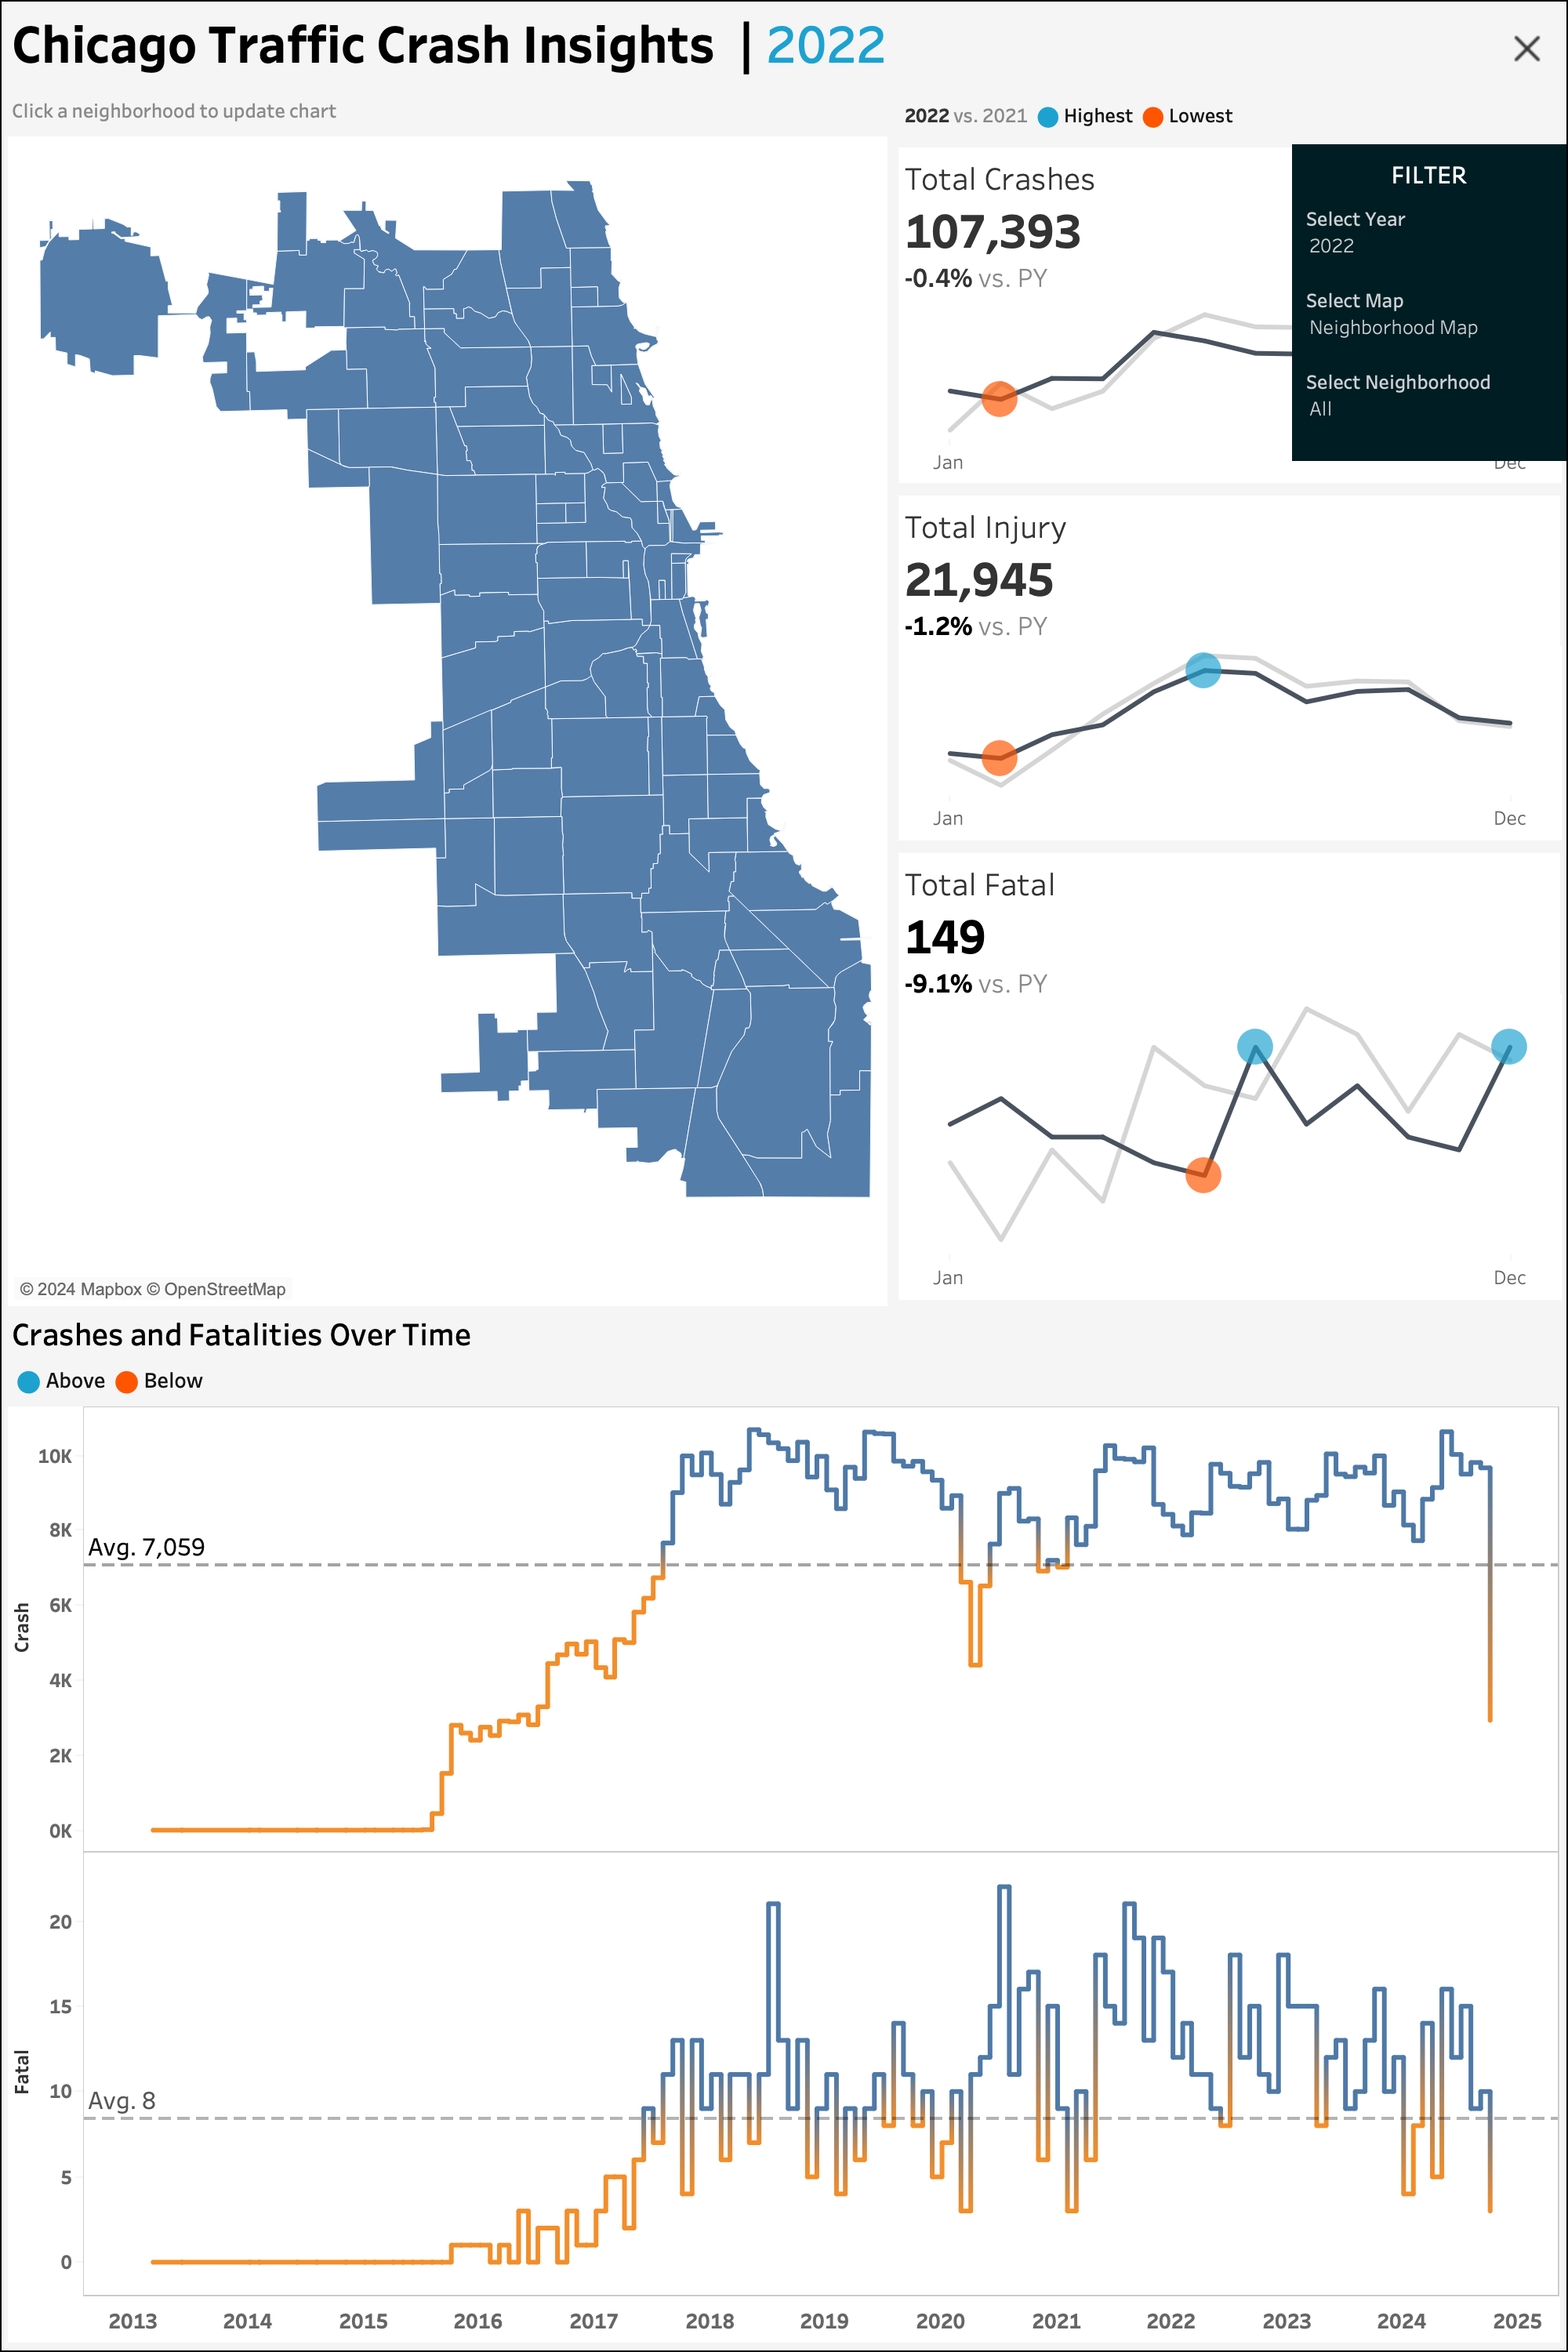

This screenshot's page, from the dashboard's own definition file:
{"tool":"tableau","page":{"name":"Traffic Crash Insights Dashboard","canvas":[1000,1500],"ordinal":0},"visuals":[{"type":"text","box":[1,1,998,53]},{"type":"dashboard-object","box":[962,18,24,26]},{"type":"text","box":[1,58,568,25]},{"type":"worksheet","title":"Legend","mark":"Automatic","box":[569,58,430,32]},{"type":"worksheet","title":"Map","mark":"Multipolygon","box":[1,83,568,749]},{"type":"worksheet","title":"KPI Crash Dynamic","mark":"Automatic","box":[569,90,430,105]},{"type":"text","box":[829,97,165,29]},{"type":"parameter","param":"[Parameters].[Parameter 1]","box":[829,126,165,52]},{"type":"parameter","param":"[Parameters].[Parameter 4]","box":[829,178,165,52]},{"type":"worksheet","title":"KPI Crash","mark":"Automatic","rows":["Calculation_3917990942326693903"],"cols":["crash_datetime"],"box":[569,195,430,117]},{"type":"filter","title":"KPI Crash Dynamic","param":"[federated.14y6cxz0pbabfy19iy9z70elmyz3].[Action (Neighborhood)]","box":[829,230,165,59]},{"type":"worksheet","title":"KPI Injuries Dynamic","mark":"Automatic","box":[569,312,430,100]},{"type":"worksheet","title":"KPI Injuries","mark":"Automatic","rows":["Min/Max Crashes (copy)_3917990942340300822"],"cols":["crash_datetime"],"box":[569,412,430,128]},{"type":"worksheet","title":"KPI Fatal Dynamic","mark":"Automatic","box":[569,540,430,94]},{"type":"worksheet","title":"KPI Fatal","mark":"Automatic","rows":["Min/Max Injuries (copy)_3917990942341640215"],"cols":["crash_datetime"],"box":[569,634,430,199]},{"type":"worksheet","title":"Heat Map","mark":"Shape","rows":["HexbinCrash (copy)_3917990942953340968"],"cols":["Calculation_3917990942953164839"],"box":[1,832,568,1]},{"type":"text","box":[1,833,998,34]},{"type":"text","box":[1,867,998,26]},{"type":"worksheet","title":"Yearly Trends","mark":"Automatic","rows":["Calculation_3917990942660554784","total_fatal_injuries_number"],"cols":["crash_datetime"],"box":[1,893,998,606]}]}

Visuals, with their boxes in screenshot pixels (x1, y1, x2, y2), scaled from the page's 1000x1500 canvas onto the 1568x2352 screenshot:
text: 2 2 1566 85
dashboard-object: 1508 28 1546 69
text: 2 91 892 130
"Legend" worksheet: 892 91 1566 141
"Map" worksheet (Multipolygon marks): 2 130 892 1305
"KPI Crash Dynamic" worksheet: 892 141 1566 306
text: 1300 152 1559 198
parameter: 1300 198 1559 279
parameter: 1300 279 1559 361
"KPI Crash" worksheet: 892 306 1566 489
"KPI Crash Dynamic" filter: 1300 361 1559 453
"KPI Injuries Dynamic" worksheet: 892 489 1566 646
"KPI Injuries" worksheet: 892 646 1566 847
"KPI Fatal Dynamic" worksheet: 892 847 1566 994
"KPI Fatal" worksheet: 892 994 1566 1306
"Heat Map" worksheet (Shape marks): 2 1305 892 1306
text: 2 1306 1566 1359
text: 2 1359 1566 1400
"Yearly Trends" worksheet: 2 1400 1566 2350
